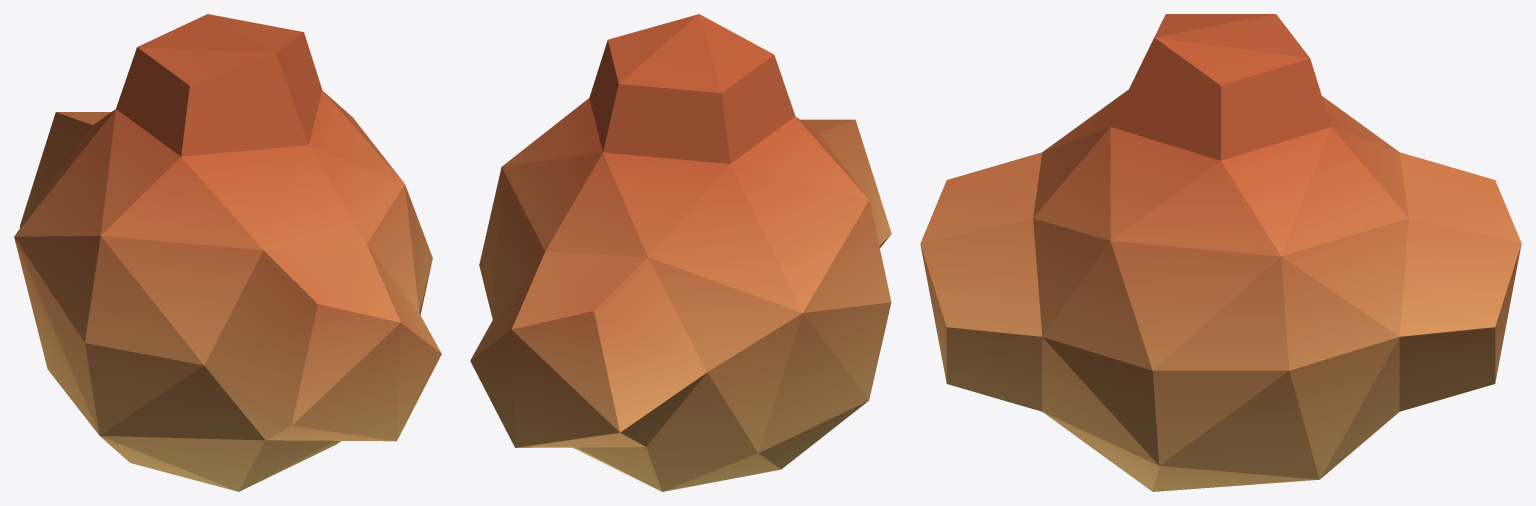
File: ImpuroFuego.fbx
3 renders of one model, left to right at view 1: azimuth 30°, elevation 25°; view 2: azimuth 150°, elevation 25°; view 3: azimuth 270°, elevation 25°, orthographic. The views are drawn at different scales.
Visible parts, largest first — view 1: Icosphere.011; view 2: Icosphere.011; view 3: Icosphere.011.
Boxes of the visible parts, x1,y1,x2,y2 form: Icosphere.011: (14, 14, 441, 491); Icosphere.011: (470, 14, 891, 491); Icosphere.011: (920, 14, 1521, 491).
Size of the model in its own units: 190 by 226 by 272.
